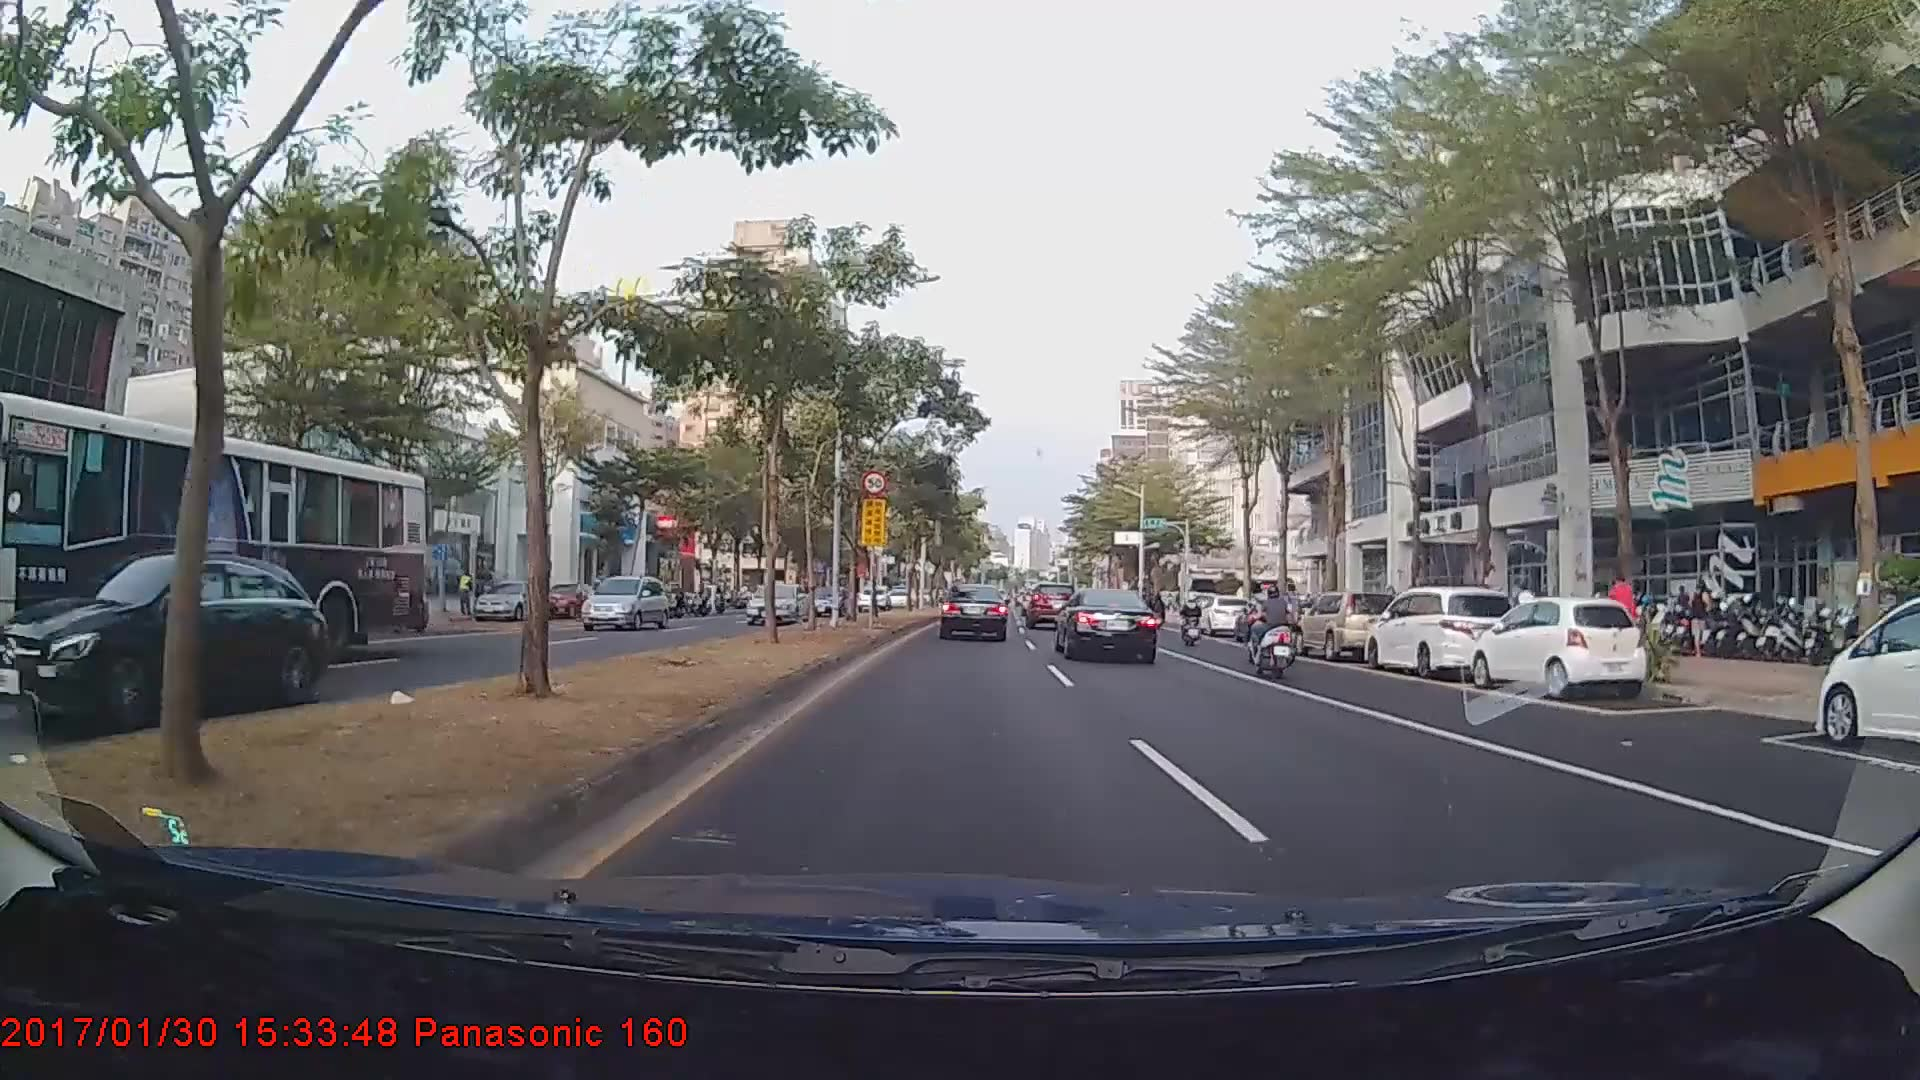rider: (1241, 582, 1310, 678), (1175, 590, 1207, 646)
vehicle: (0, 395, 429, 680), (0, 549, 334, 728), (1466, 594, 1648, 700), (1812, 583, 1918, 764), (1367, 585, 1520, 683), (1055, 585, 1159, 664), (1293, 588, 1402, 662), (577, 576, 666, 630), (938, 581, 1008, 642), (472, 577, 550, 621), (744, 582, 807, 624), (1197, 594, 1253, 638), (1025, 584, 1076, 630), (806, 584, 850, 616), (856, 585, 891, 611)
